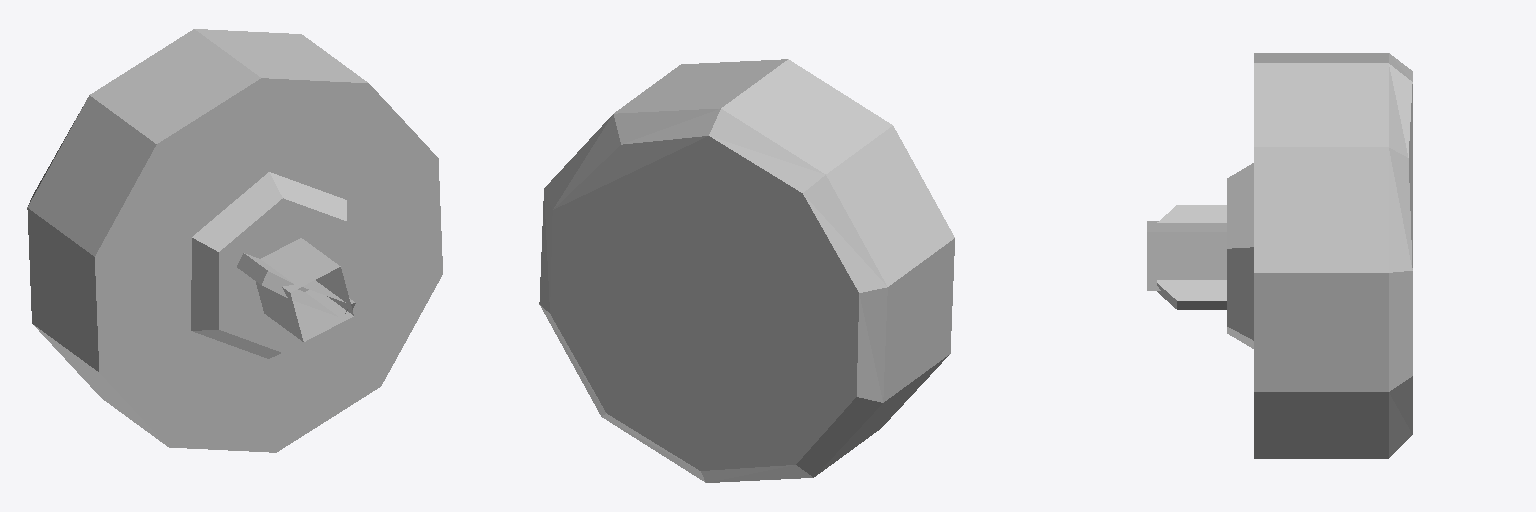
Rendered from wheel89.obj.
The picture shows the model from 3 angles: view 1: azimuth 30°, elevation 25°; view 2: azimuth 150°, elevation 25°; view 3: azimuth 270°, elevation 25°; orthographic projection.
Visible parts, largest first — view 1: wheel_low_textures; view 2: wheel_low_textures; view 3: wheel_low_textures.
Part boxes in pixels (left/top/right/bottom): wheel_low_textures: left=27, top=29, right=442, bottom=452; wheel_low_textures: left=539, top=59, right=954, bottom=482; wheel_low_textures: left=1147, top=53, right=1412, bottom=458.
Bounding box in the file's own units: 1.5 × 1.56 × 0.9907.